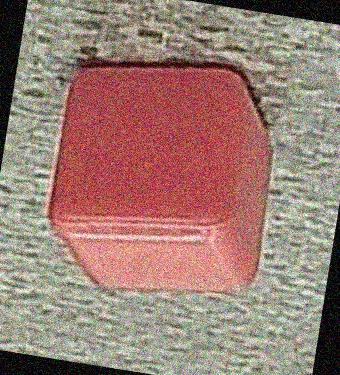orange_cube: (40, 41, 297, 305)
